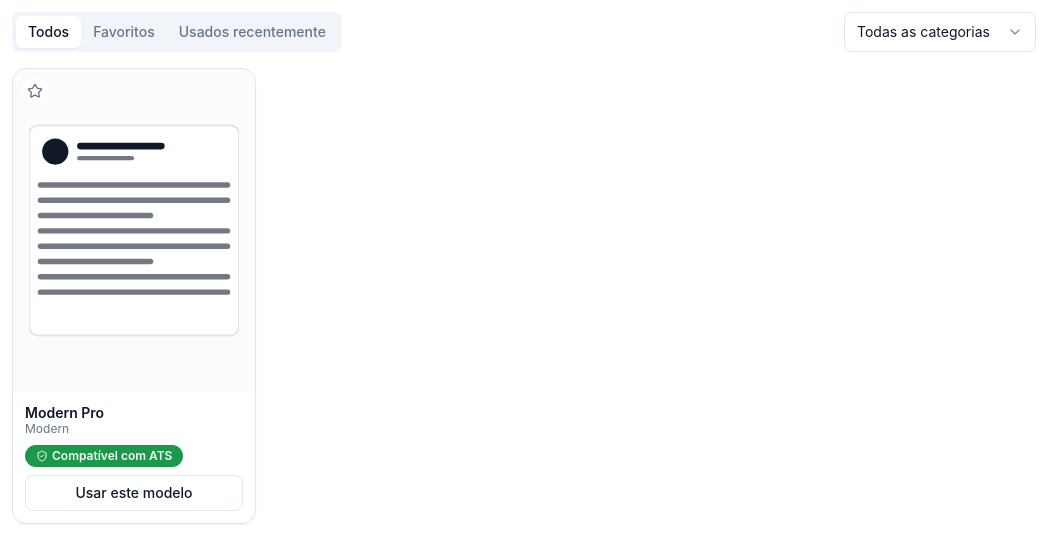
Test: TemplateGallery › shows the custom empty label when the favorites tab has no templates
Press the mouse on the tab "Favoritos" at {"x": 124, "y": 32}, box [81,16,167,48]
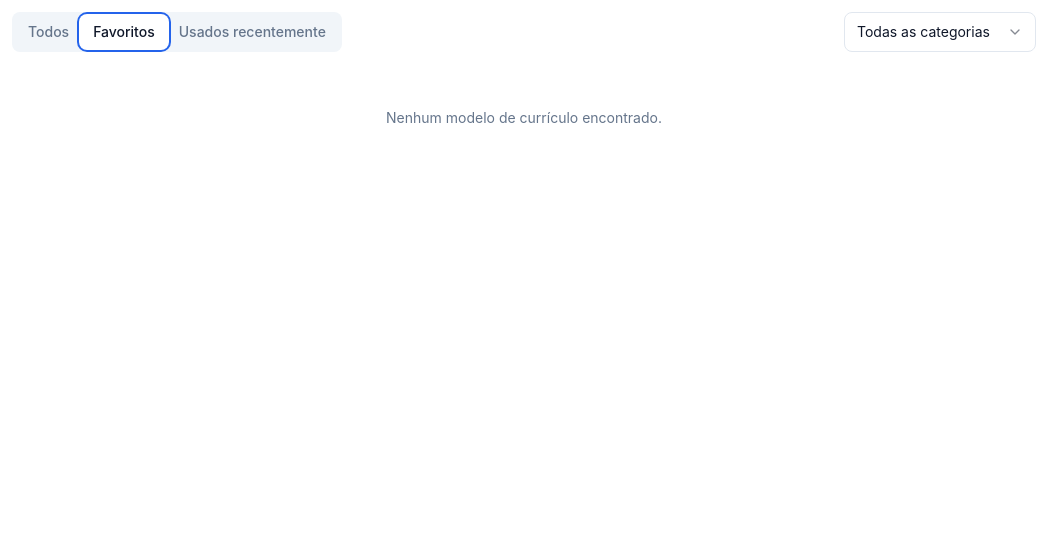
Check: the text "Nenhum modelo de currículo encontrado." is shown, box [386,109,662,126]
